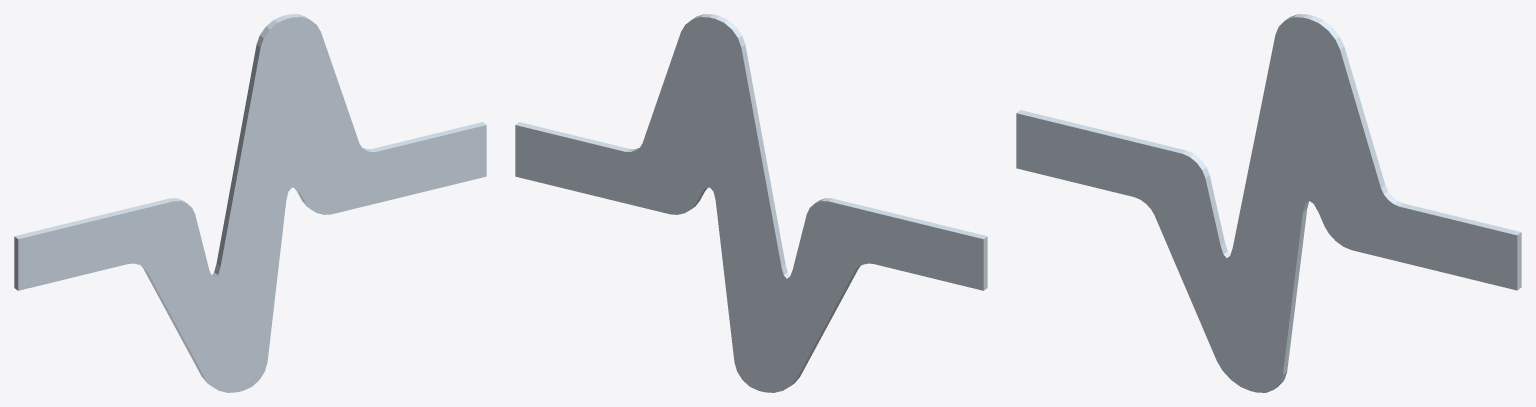
File: Heartbeat_3D_Icon.fbx
3 renders of one model, left to right at view 1: azimuth 30°, elevation 25°; view 2: azimuth 150°, elevation 25°; view 3: azimuth 330°, elevation 25°, orthographic. The views are drawn at different scales.
Visible parts, largest first — view 1: Heartbeat_3D_Icon; view 2: Heartbeat_3D_Icon; view 3: Heartbeat_3D_Icon.
Part boxes in pixels (x1,y1,x2,y2): Heartbeat_3D_Icon: [14, 14, 486, 392]; Heartbeat_3D_Icon: [515, 14, 987, 392]; Heartbeat_3D_Icon: [1016, 14, 1521, 392].
Size of the model in its own units: 132 by 97.55 by 2.
